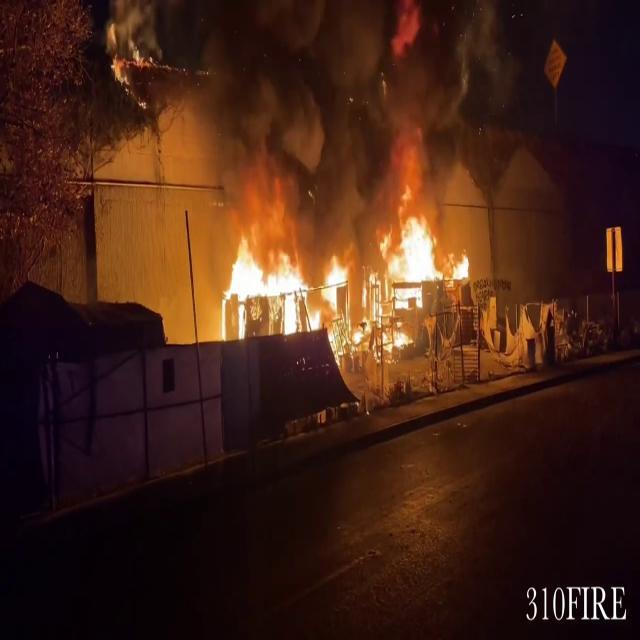Fire: (208, 201, 474, 364)
Smoke: (58, 0, 488, 236)
